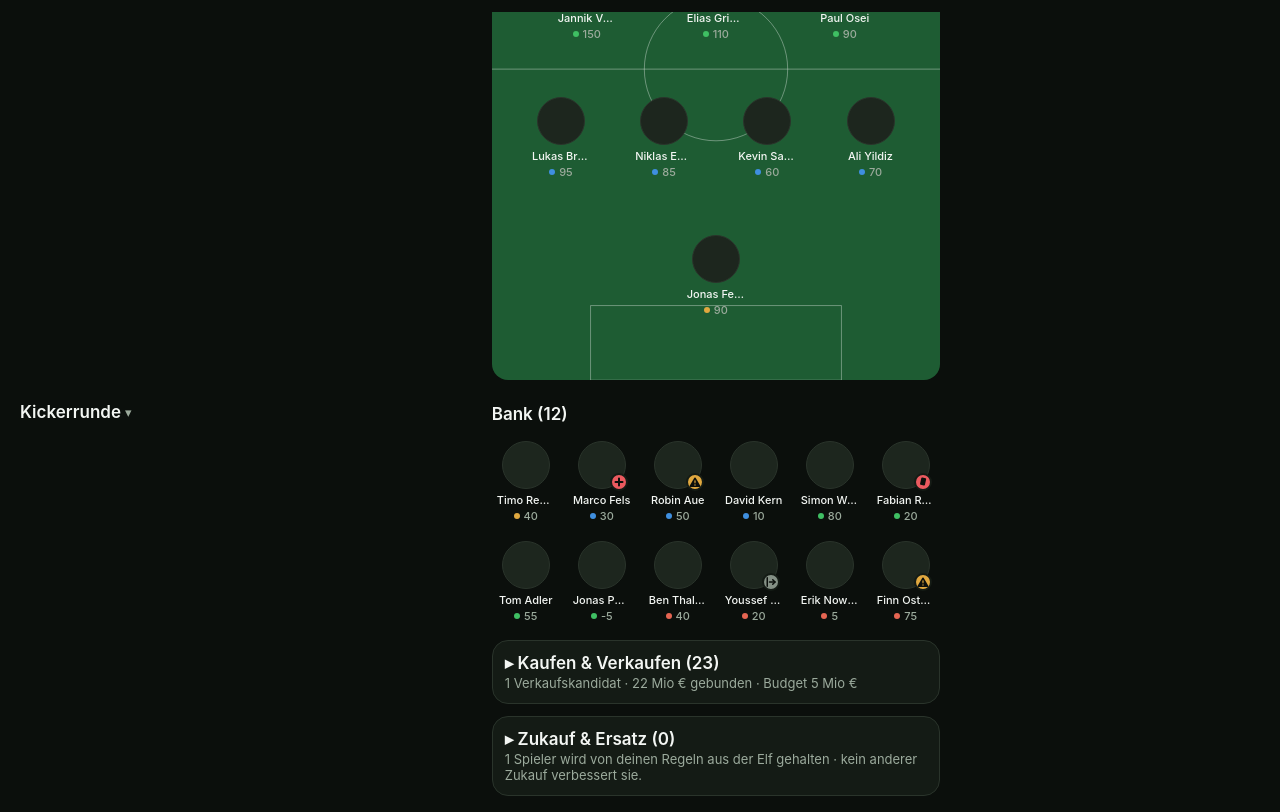
Test: LineupScreen › hält die Vereins-Obergrenze auch beim Zukauf ein
The width and height of the screenshot is (1280, 812).
(page scrolled)
Expected: the text "1 Spieler wird von deinen Regeln aus der Elf gehalten" is shown, [505, 751, 917, 783]
Click the button "Zukauf" at (716,756), box [493, 717, 939, 795]
(page scrolled)
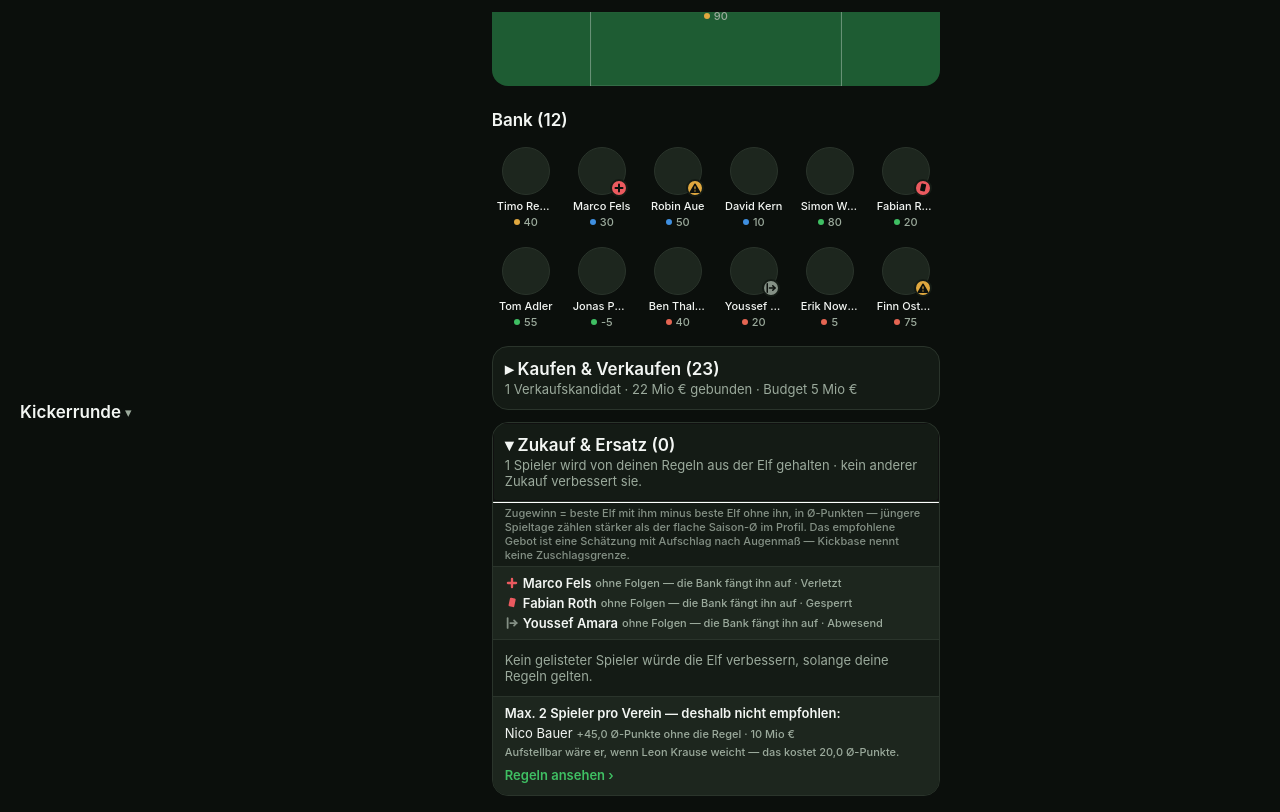
Result: the text "Max. 2 Spieler pro Verein — deshalb nicht empfohlen:" is shown at [505, 705, 841, 721]
